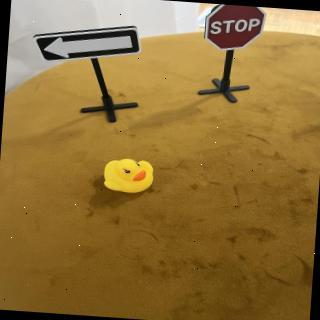duck_regular: (100, 156, 157, 198)
sign_oneway_left: (31, 18, 146, 72)
sign_stop: (202, 4, 269, 56)
